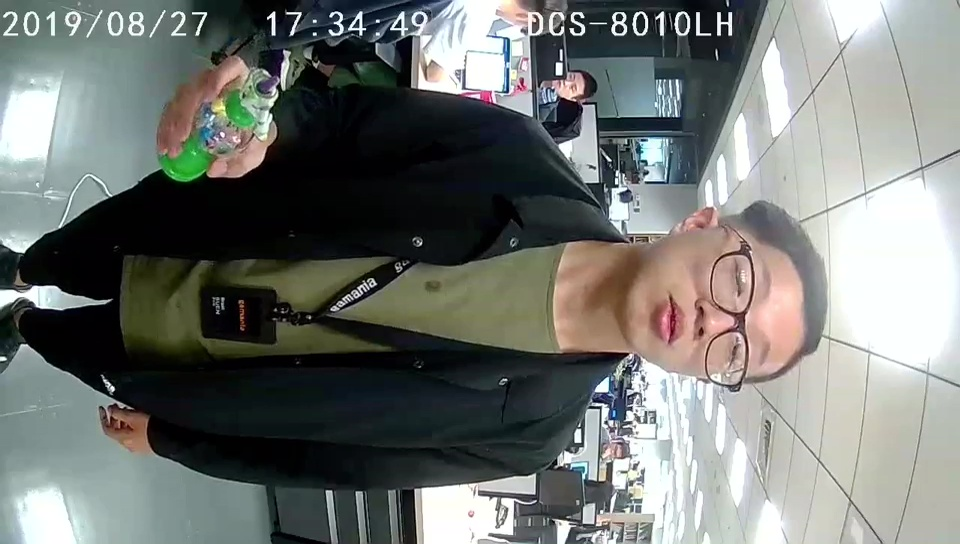buzz: (158, 63, 278, 183)
